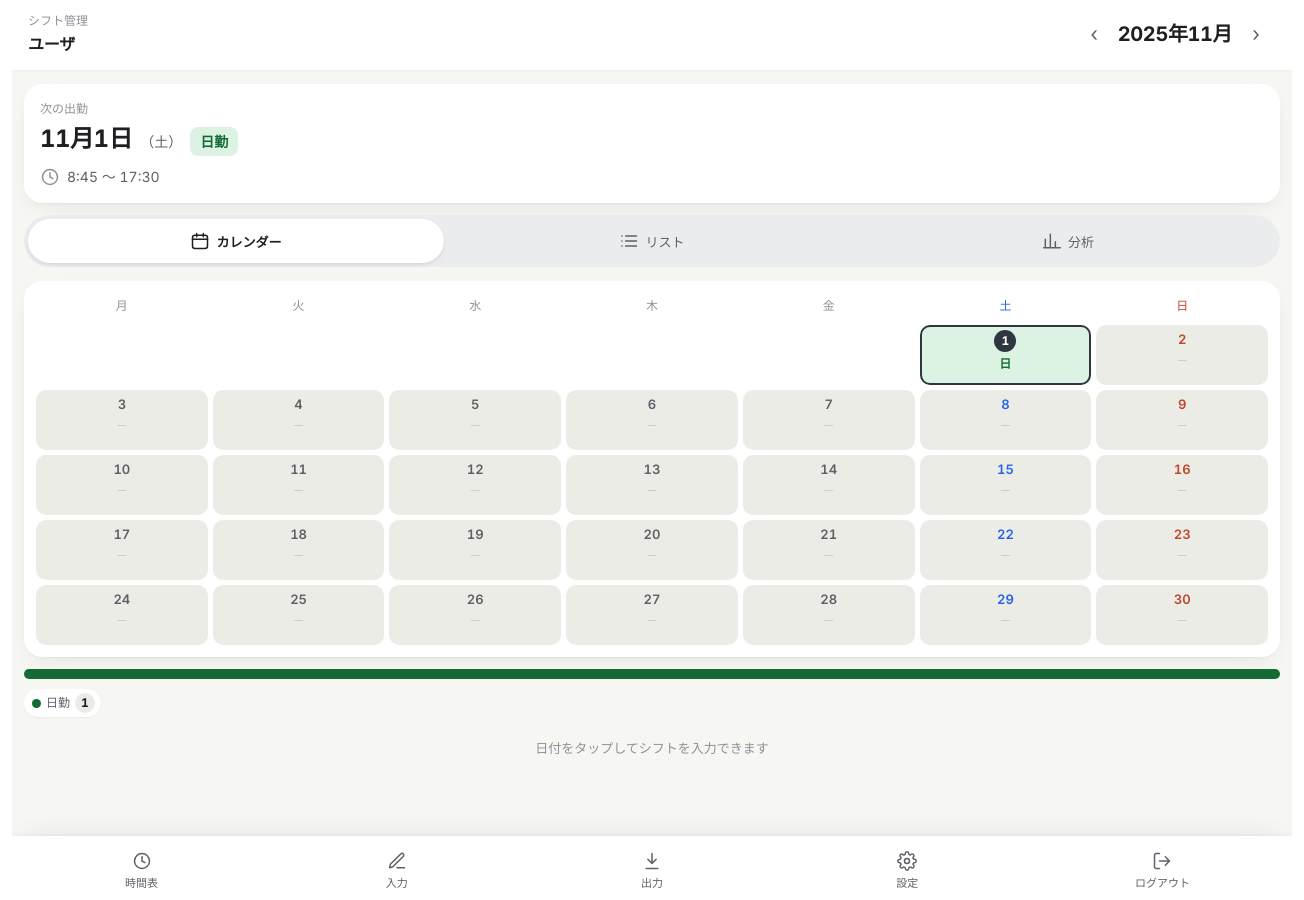
Test: 分析ビュー › 前月の取得に失敗してもエラーを出さず分析を描画する
Click the button "分析" at point(1068, 241), box [860, 219, 1276, 263]
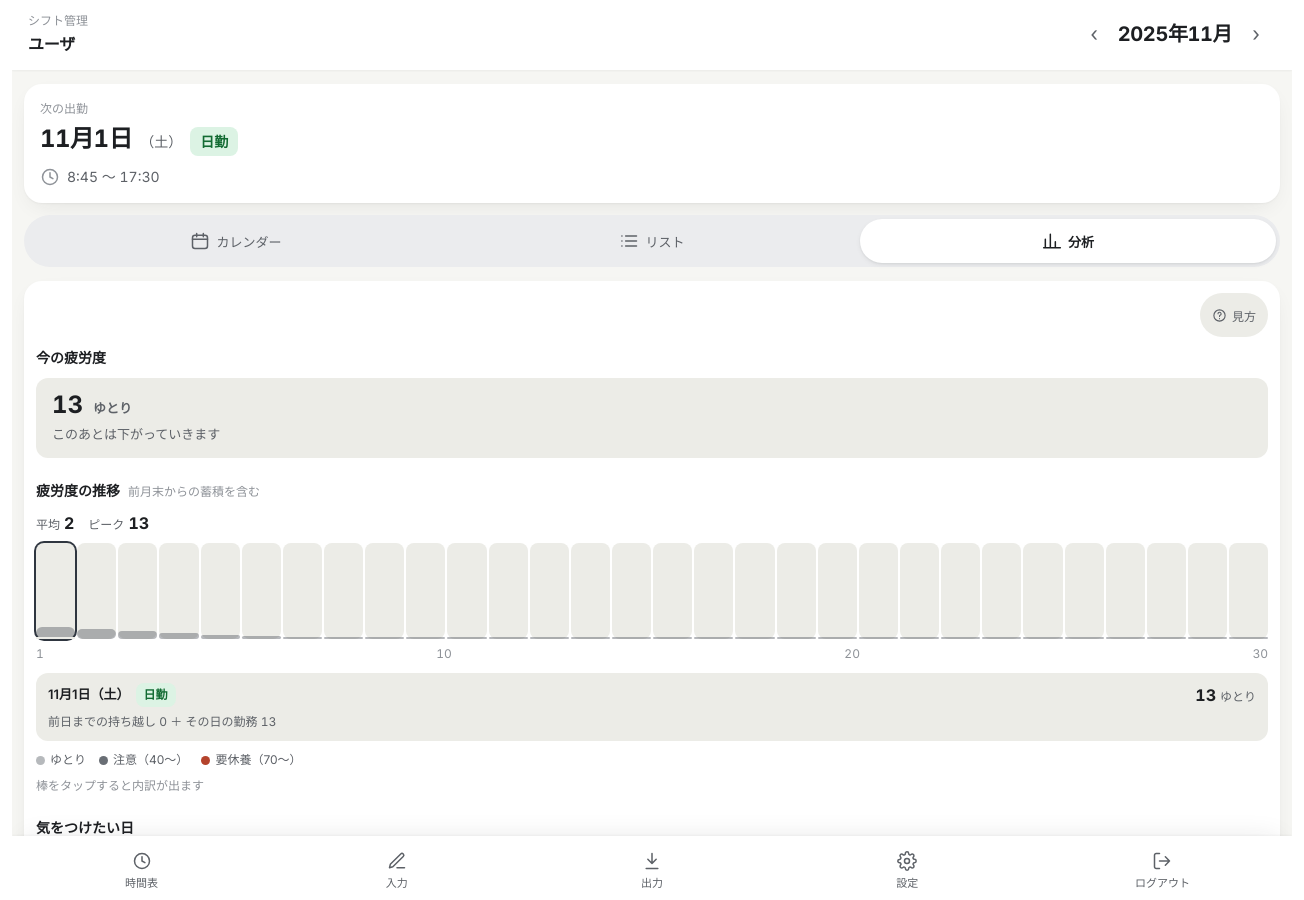
Expected: the element with class "fatigue-chart" is shown, [36, 511, 1268, 795]
